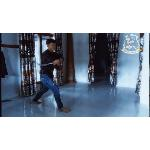Celurit: (30, 59, 57, 69)
